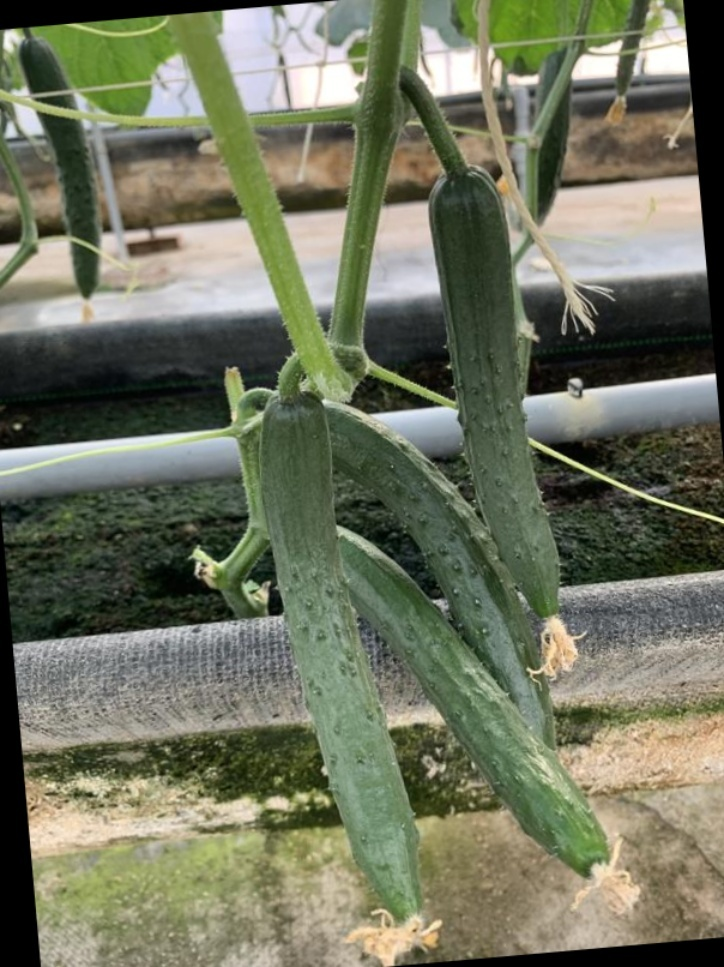mature: (253, 395, 434, 925), (343, 525, 603, 882), (420, 156, 576, 637)
